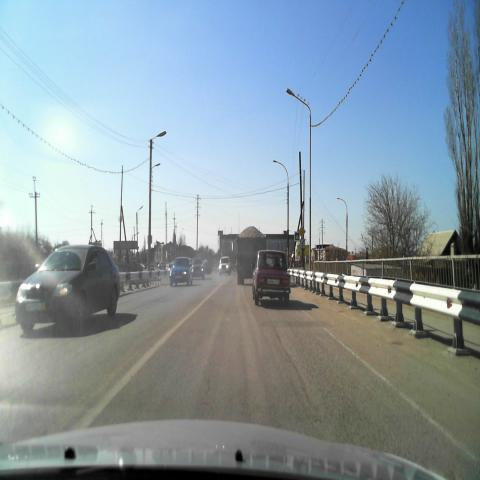2_1: (298, 226, 306, 238)
5_19_1: (294, 231, 300, 241)
8_13: (300, 239, 304, 248)
